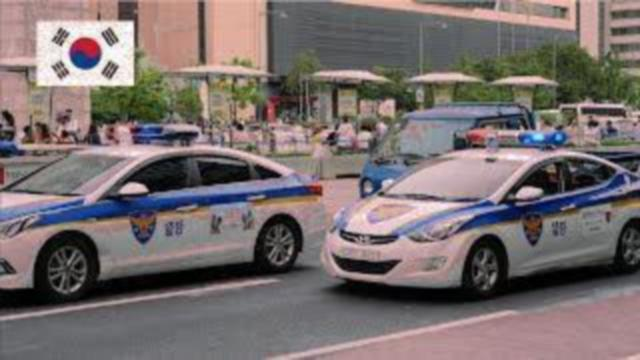police_car: (2, 124, 326, 294), (324, 128, 640, 298)
